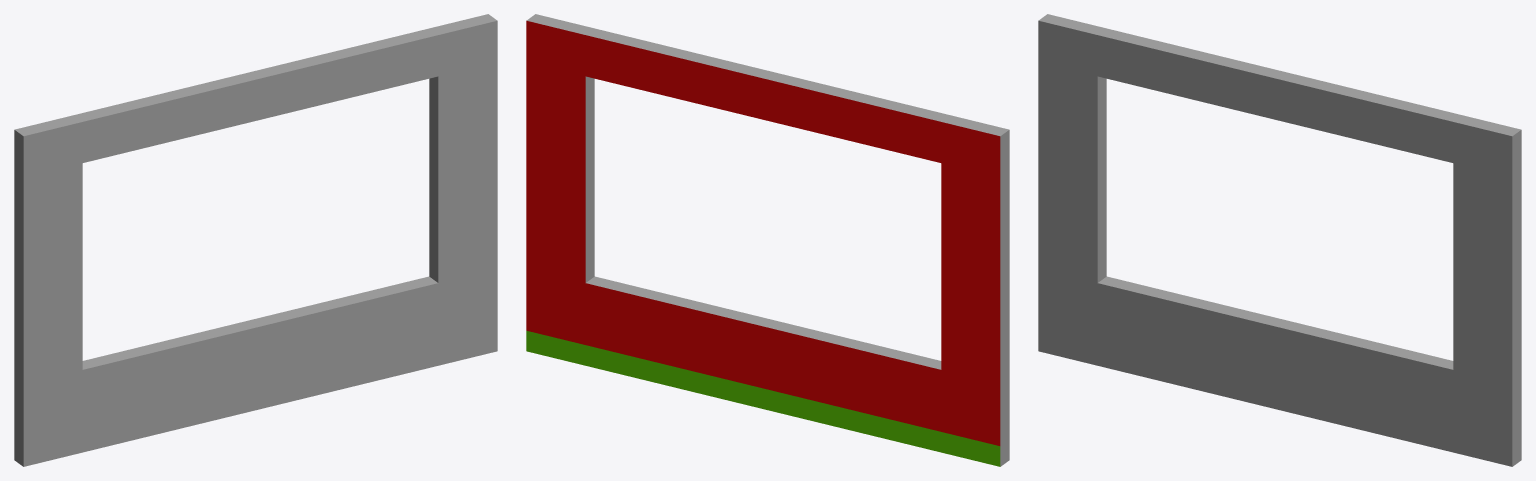
The model's file is Restroom_Wall_Window_02_Snaps014.fbx.
The picture shows the model from 3 angles, left to right: view 1: azimuth 30°, elevation 25°; view 2: azimuth 150°, elevation 25°; view 3: azimuth 330°, elevation 25°; orthographic projection.
Parts seen in each view (by area): view 1: Restroom_Wall_Window_02_LOD00; view 2: Restroom_Wall_Window_02_LOD00; view 3: Restroom_Wall_Window_02_LOD00.
Part boxes in pixels (x1,y1,x2,y2): Restroom_Wall_Window_02_LOD00: (14,14,497,466); Restroom_Wall_Window_02_LOD00: (526,14,1009,466); Restroom_Wall_Window_02_LOD00: (1038,14,1521,466).
Size of the model in its own units: 600 by 400 by 20.
